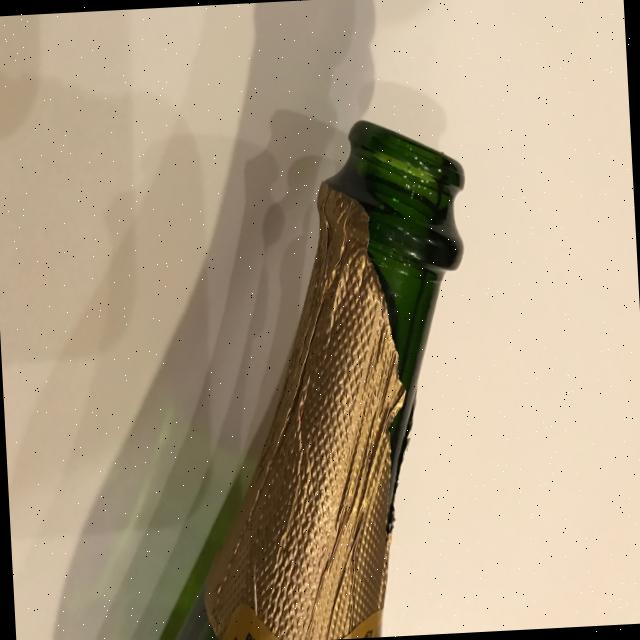glass: (176, 113, 488, 640)
